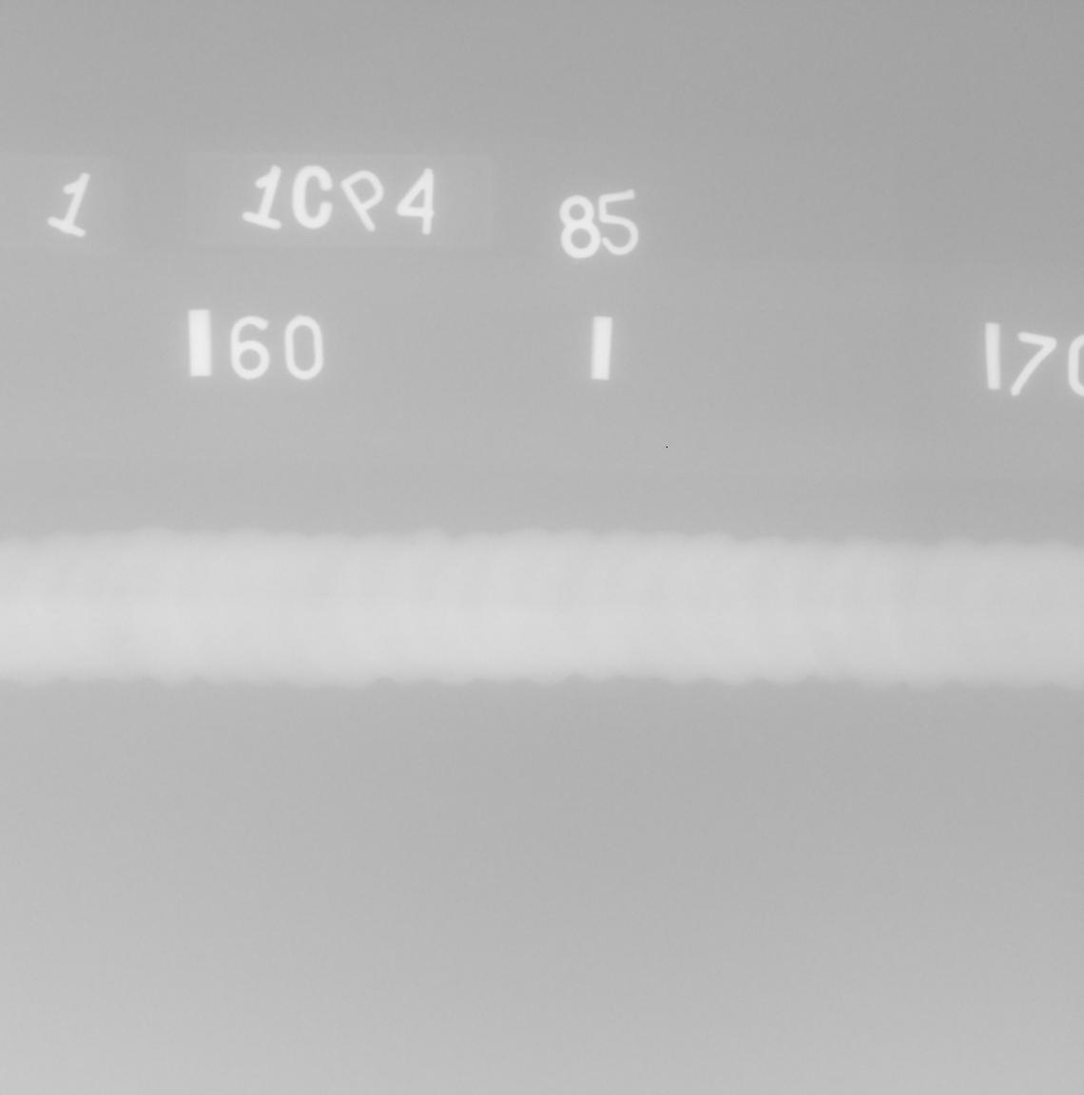Pore/Porosity: (53, 607, 61, 614), (410, 540, 416, 546), (348, 682, 353, 687)
